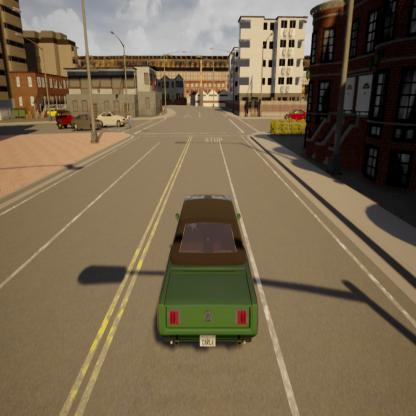Cars: (153, 180, 266, 362), (51, 105, 81, 133), (273, 105, 312, 126), (67, 113, 103, 134), (96, 107, 130, 128), (46, 104, 66, 119)
Pedestrian: (124, 104, 133, 130)
